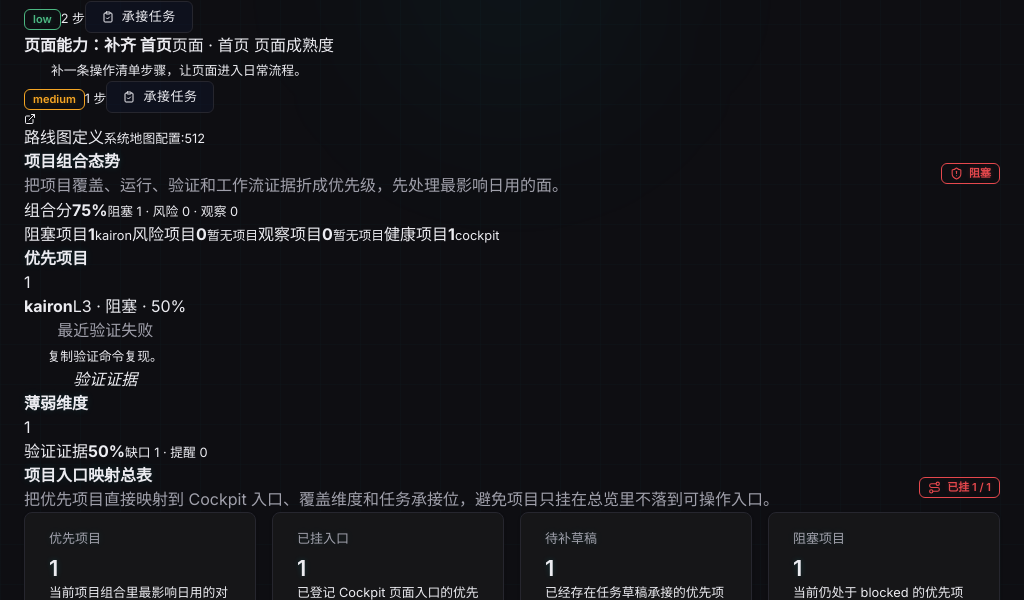
SystemMapView interaction › filters the project matrix by portfolio posture bucket
(page scrolled)
Click the button "阻塞项目1kairon" at x=78, y=234, box x1=24 y1=222 x2=132 y2=246
(page scrolled)
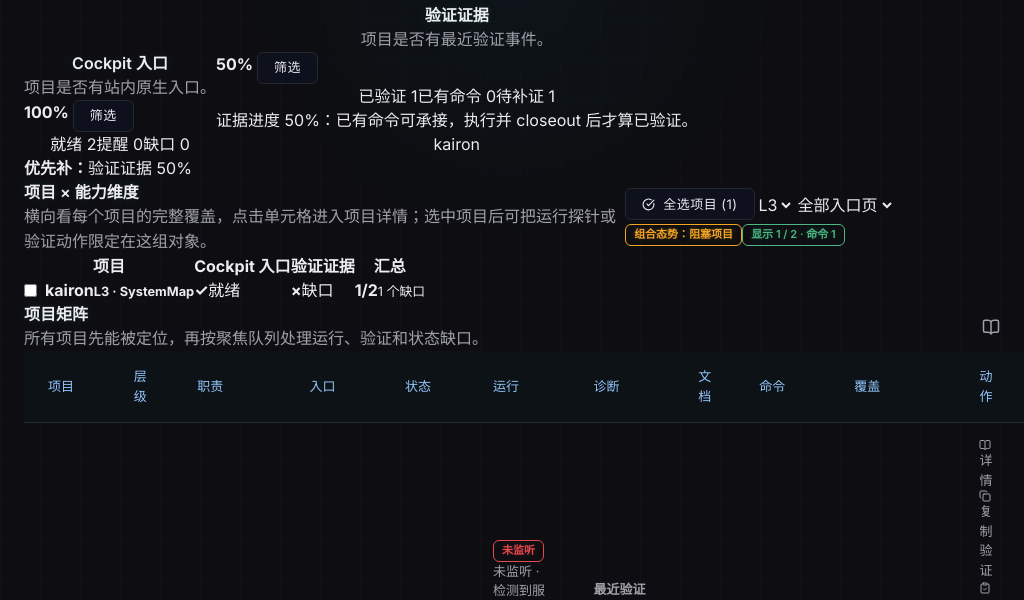
expect the text "组合态势：阻塞项目" is shown: met, box x1=625 y1=224 x2=742 y2=246
expect the text "显示 1 / 2 · 命令 1" is shown: met, box x1=742 y1=224 x2=845 y2=246
